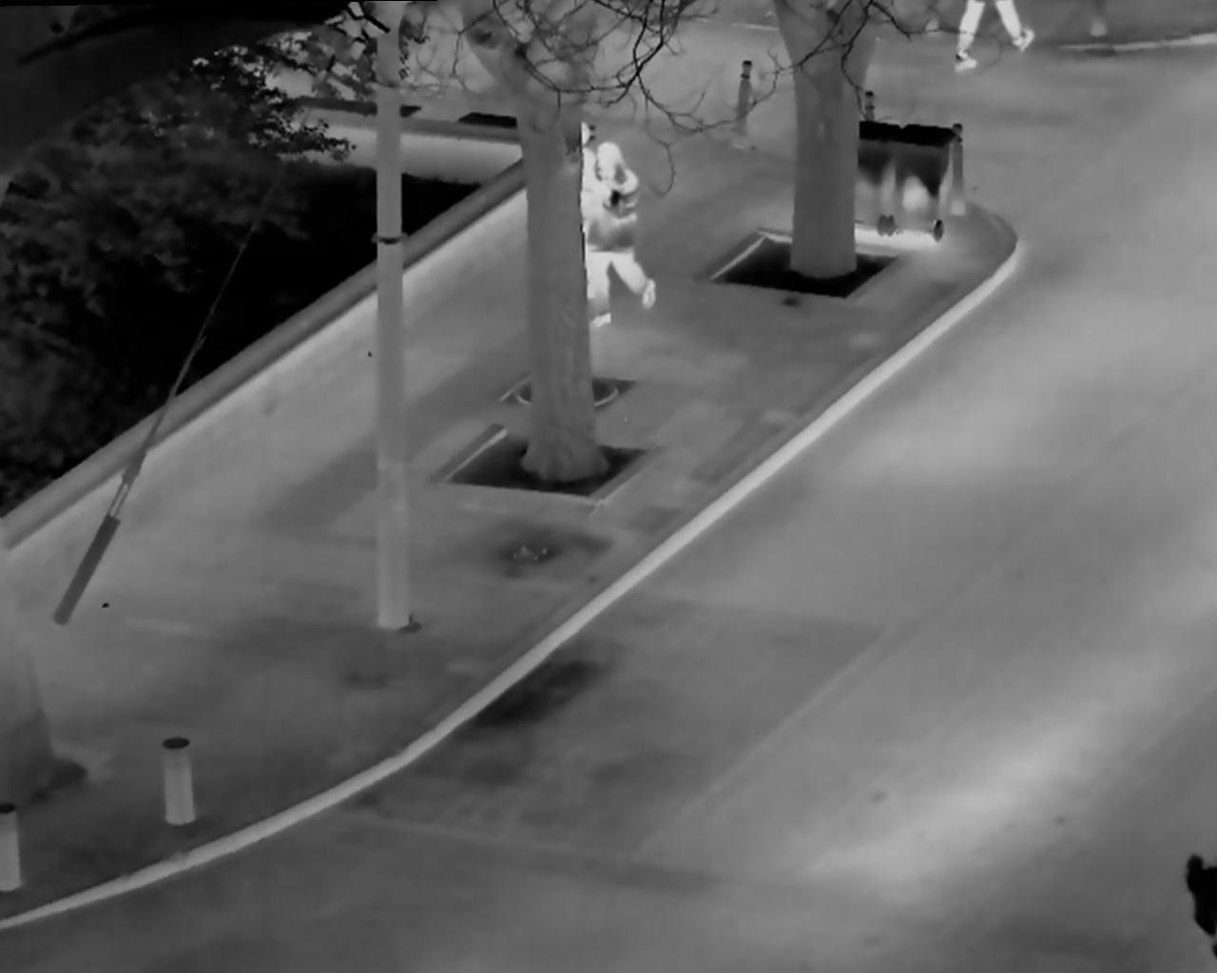person: (575, 128, 669, 340)
